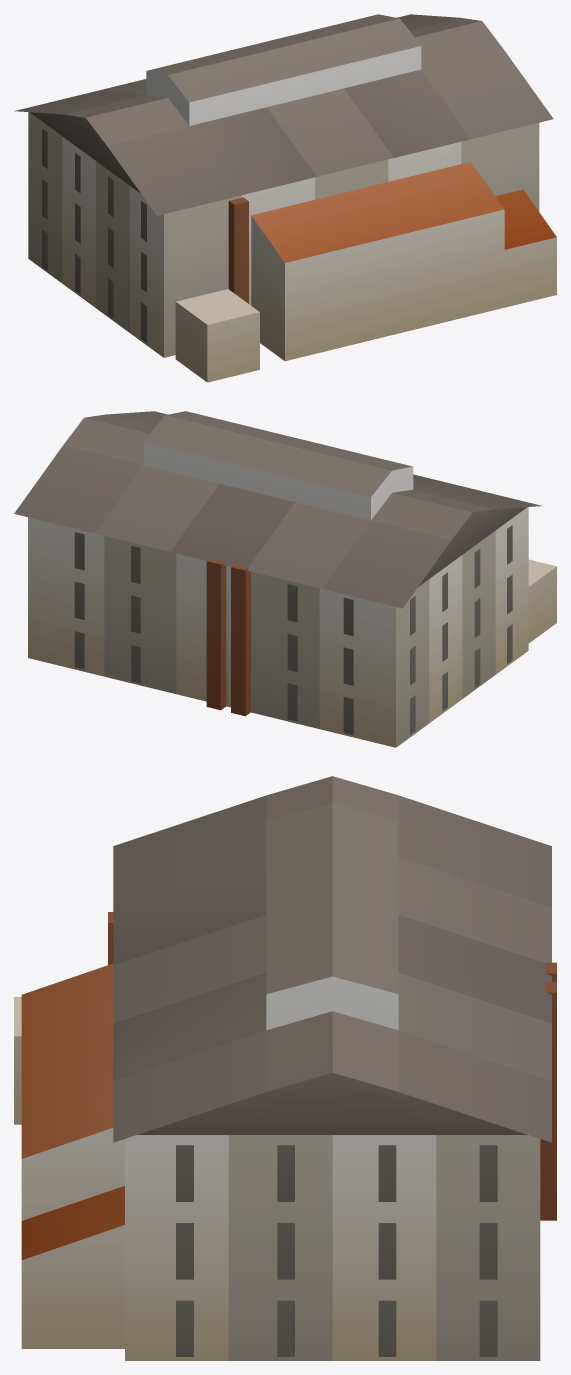
File: SM_Factory_Building_01.fbx
The picture shows the model from 3 angles, top to bottom: view 1: azimuth 30°, elevation 25°; view 2: azimuth 150°, elevation 25°; view 3: azimuth 270°, elevation 25°; orthographic projection. The views are drawn at different scales.
Parts seen in each view (by area): view 1: SM_Factory_Building_01; view 2: SM_Factory_Building_01; view 3: SM_Factory_Building_01.
Boxes of the visible parts, left/top/right/bottom form: SM_Factory_Building_01: left=14, top=14, right=556, bottom=382; SM_Factory_Building_01: left=14, top=411, right=556, bottom=747; SM_Factory_Building_01: left=14, top=776, right=556, bottom=1360.
Bounding box in the file's own units: 8.45 × 4.39 × 6.54.
